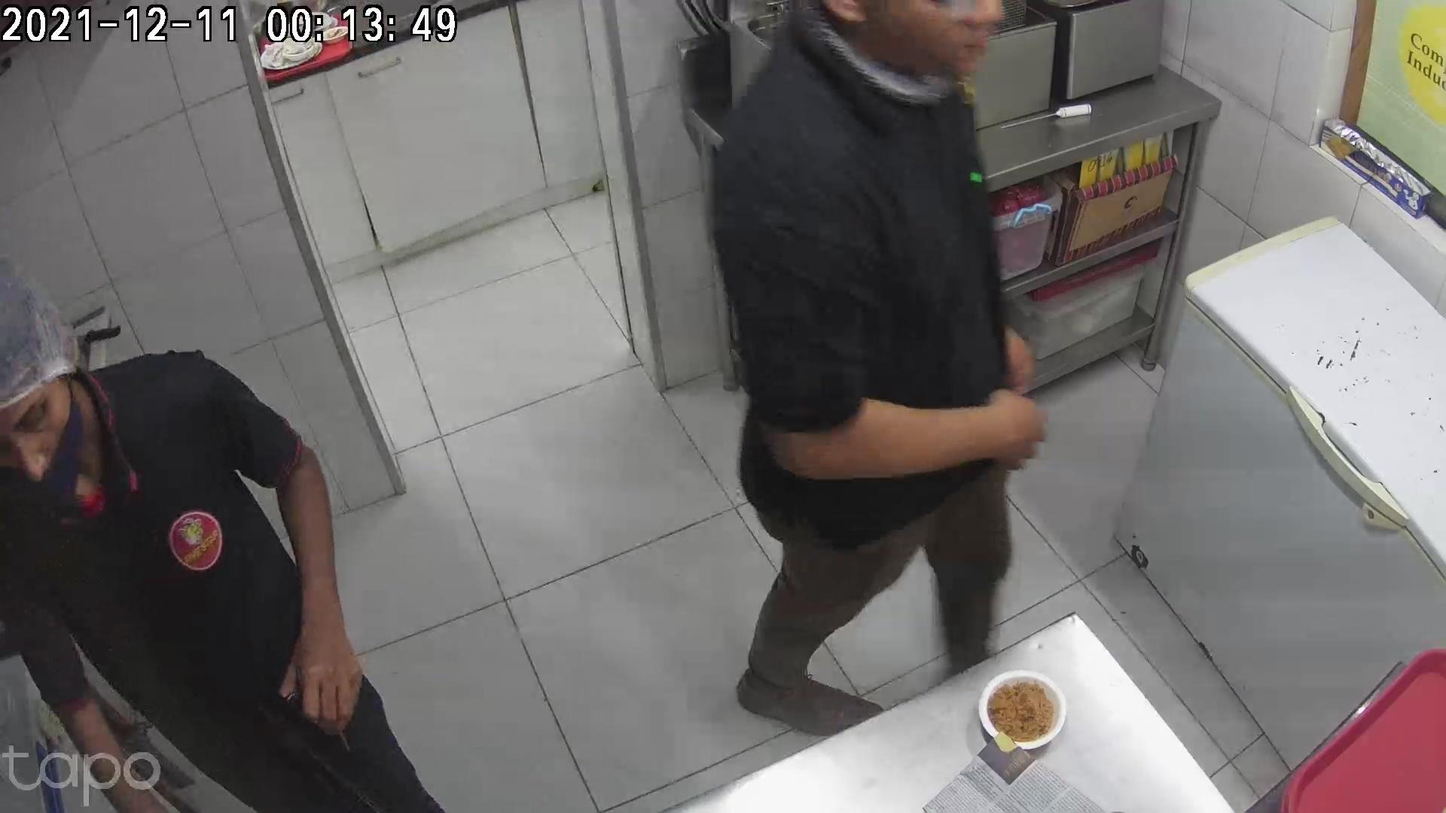no_gloves: (292, 598, 360, 724)
